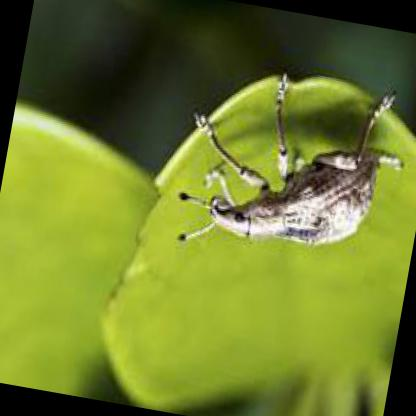ash weevil: (191, 67, 402, 244)
